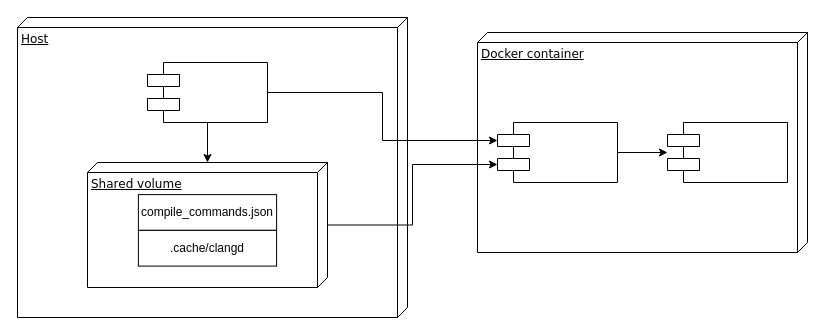
This 825x335 diagram has some shape labels left out. Here are the shapes that lost their labels. From the top down, the centre of each, then its label:
At (207,92): "NeoVim".
At (557,152): "clangd".
At (727,152): "exampleApp".
